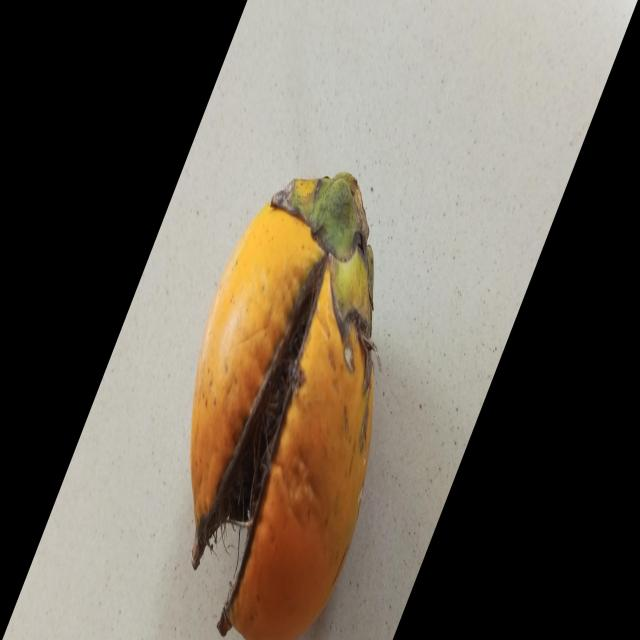damaged: (190, 175, 375, 640)
